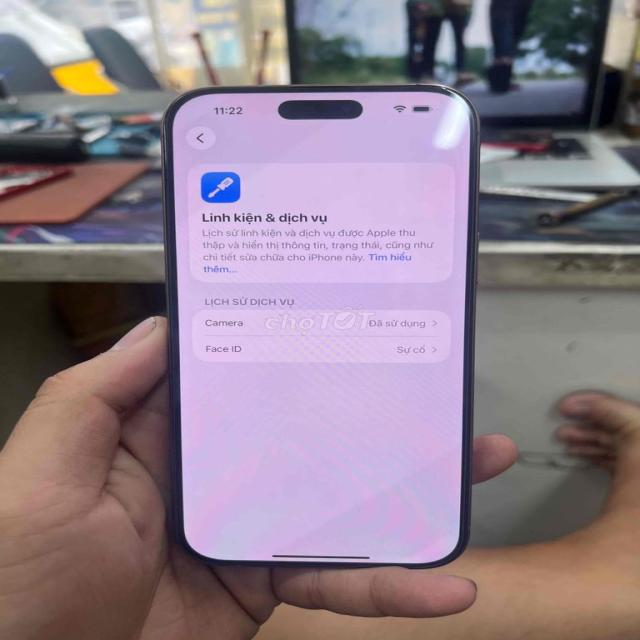gen_16: (162, 85, 478, 568)
